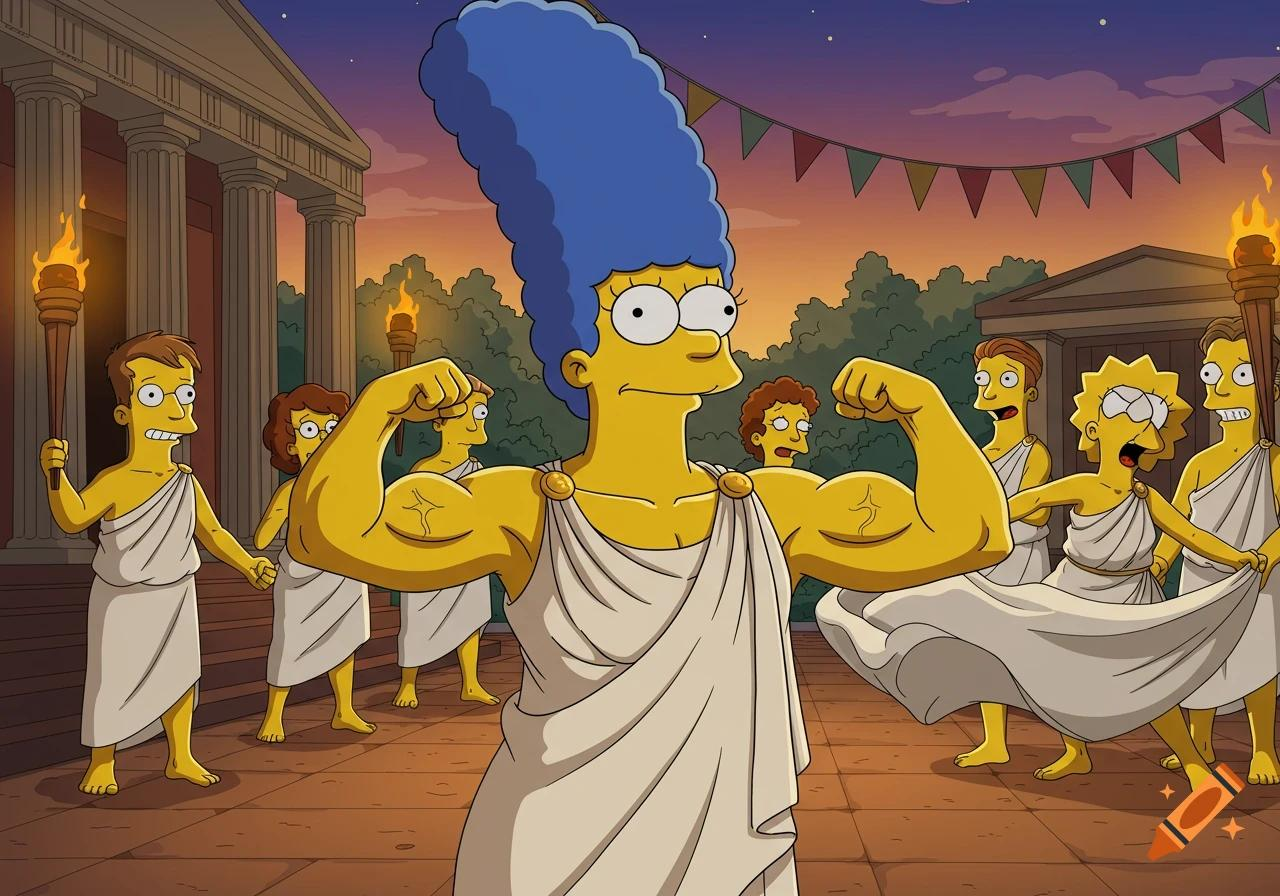Marge: (387, 7, 876, 896)
